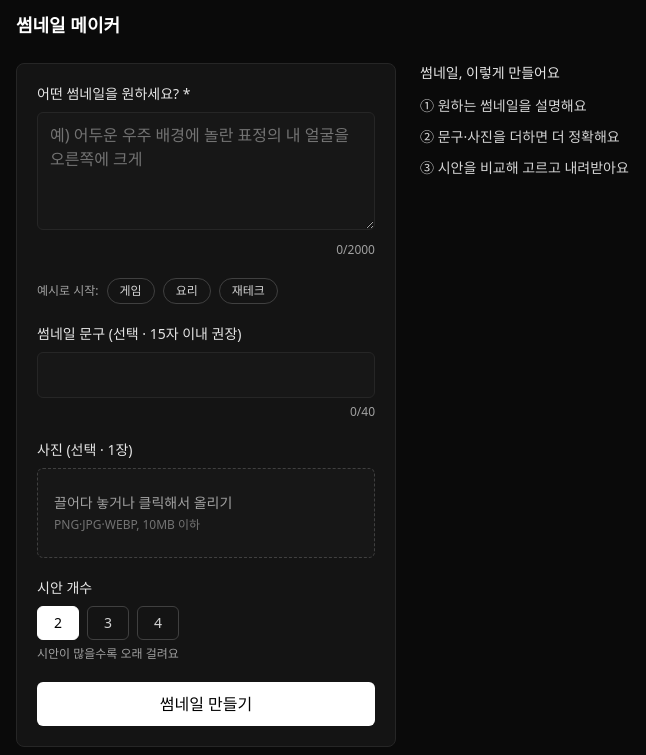
첫 화면 › 검증에 실패하면 요청을 보내지 않고 라운드도 만들지 않는다
Step 1. Click the button "썸네일 만들기" → (206, 704), box x1=37 y1=682 x2=375 y2=726
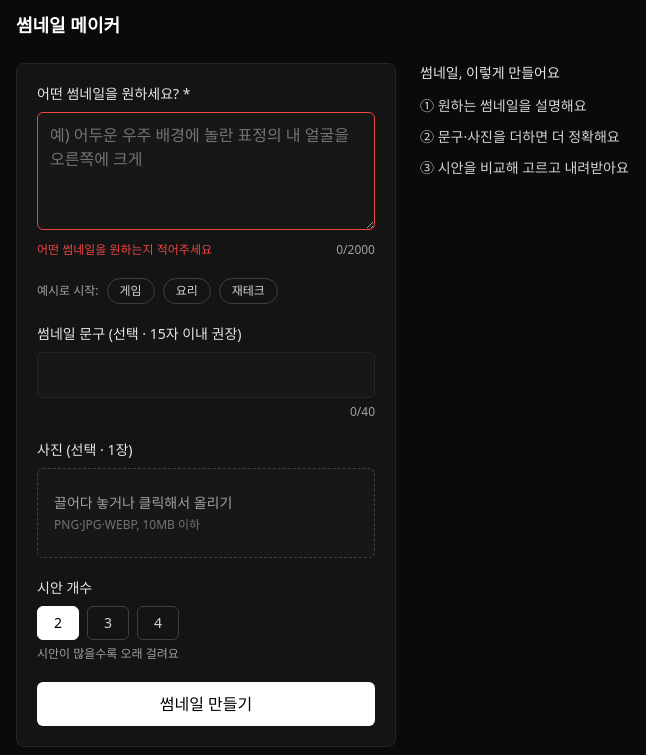
Expected: the text "어떤 썸네일을 원하는지 적어주세요" is shown, x1=37 y1=242 x2=212 y2=258
